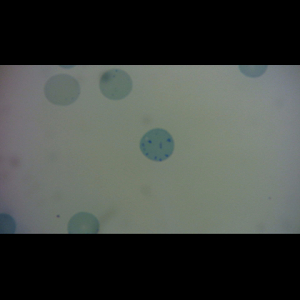aggregate reticulocyte: (139, 127, 176, 163)
punctate reticulocyte: (42, 73, 81, 107), (98, 67, 135, 101)
